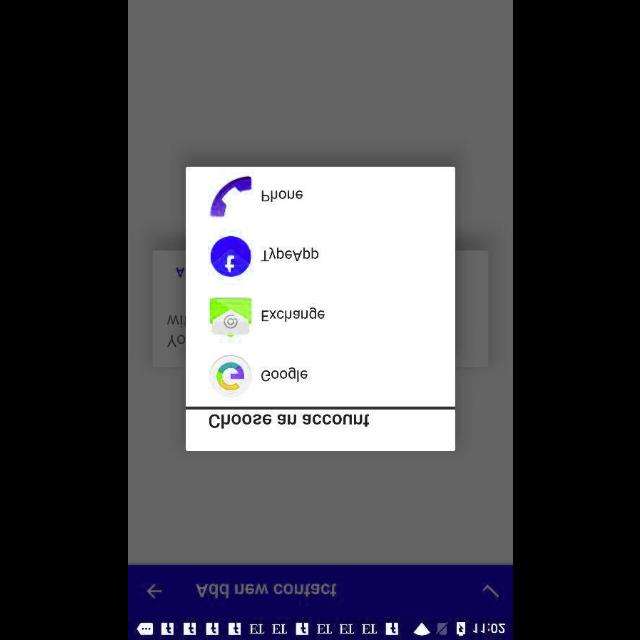icon: (210, 355, 252, 397), (146, 582, 162, 598), (482, 584, 498, 596)
image: (209, 176, 251, 218), (210, 298, 250, 338), (210, 237, 250, 276)
panel: (186, 166, 454, 450)
text: (210, 414, 368, 428), (196, 582, 336, 596), (262, 308, 324, 322), (260, 248, 318, 262), (260, 367, 308, 381), (260, 191, 302, 203)
uppertaskbar: (128, 617, 512, 639)
